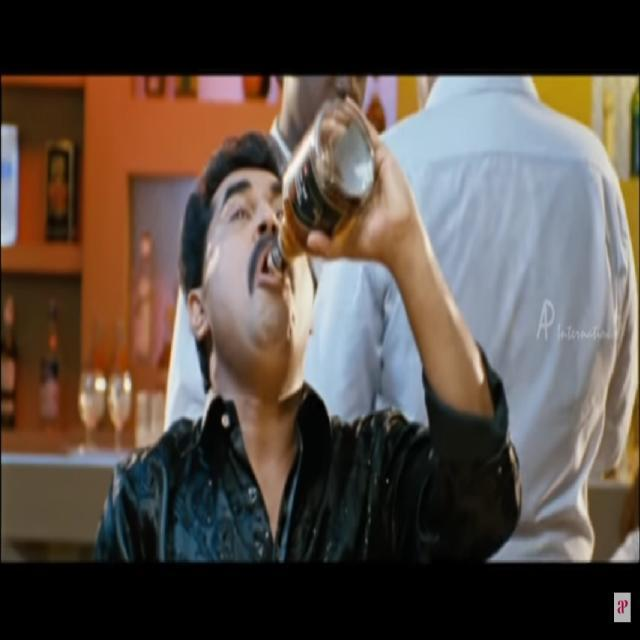Drinking: (190, 99, 377, 370)
